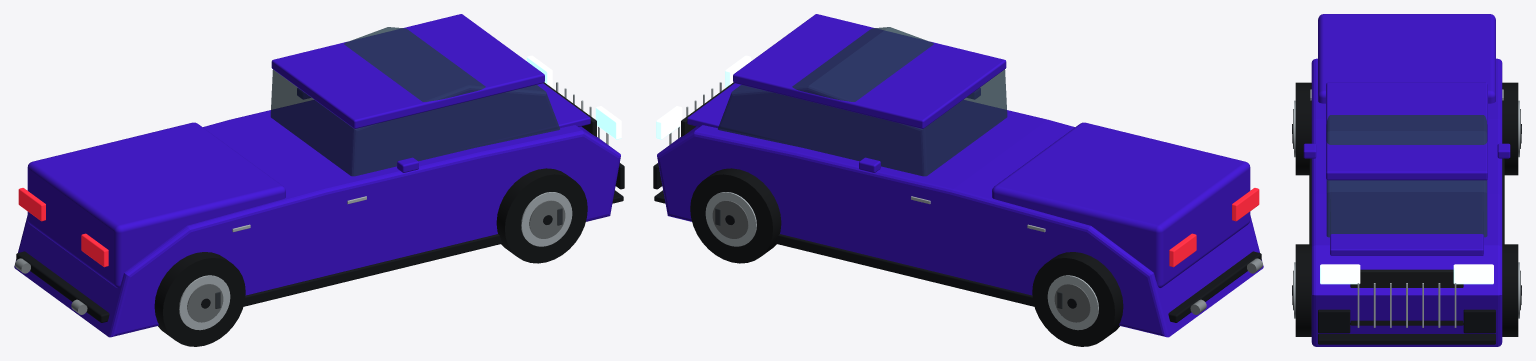
The model's file is chevy_silverado_3500hd.glb.
3 renders of one model, left to right at view 1: azimuth 30°, elevation 25°; view 2: azimuth 150°, elevation 25°; view 3: azimuth 270°, elevation 25°, orthographic. The views are drawn at different scales.
Parts seen in each view (by area): view 1: sculpted_body, pickup_bed, cab, cab_roof, hood_center, rear_right_wheel_tire, front_right_wheel_tire, side_skirt_1, rear_diffuser, rear_right_wheel_rim, front_right_wheel_rim, rear_right_wheel_disc (+4 smaller); view 2: sculpted_body, pickup_bed, cab, cab_roof, hood_center, rear_left_wheel_tire, front_left_wheel_tire, side_skirt_-1, rear_diffuser, rear_left_wheel_rim, front_left_wheel_rim, rear_left_wheel_disc (+4 smaller); view 3: cab_roof, sculpted_body, cab, pickup_bed, hood_center, front_grille, front_splitter, front_left_wheel_tire, front_right_wheel_tire, rear_left_wheel_tire, rear_right_wheel_tire, headlight_left (+7 smaller).
Boxes of the visible parts, left/top/right/bottom form: sculpted_body: left=14, top=100, right=620, bottom=337; pickup_bed: left=27, top=122, right=285, bottom=287; cab: left=270, top=27, right=559, bottom=176; cab_roof: left=271, top=14, right=544, bottom=128; hood_center: left=399, top=83, right=590, bottom=151; rear_right_wheel_tire: left=154, top=252, right=245, bottom=346; front_right_wheel_tire: left=496, top=168, right=587, bottom=263; side_skirt_1: left=243, top=234, right=502, bottom=306; rear_diffuser: left=16, top=251, right=109, bottom=322; rear_right_wheel_rim: left=179, top=275, right=230, bottom=330; front_right_wheel_rim: left=521, top=192, right=572, bottom=246; rear_right_wheel_disc: left=187, top=284, right=223, bottom=322; sculpted_body: left=657, top=100, right=1263, bottom=337; pickup_bed: left=992, top=122, right=1250, bottom=287; cab: left=718, top=27, right=1007, bottom=176; cab_roof: left=733, top=14, right=1006, bottom=128; hood_center: left=687, top=83, right=878, bottom=151; rear_left_wheel_tire: left=1032, top=252, right=1123, bottom=346; front_left_wheel_tire: left=690, top=168, right=781, bottom=263; side_skirt_-1: left=775, top=234, right=1034, bottom=306; rear_diffuser: left=1168, top=251, right=1261, bottom=322; rear_left_wheel_rim: left=1047, top=275, right=1098, bottom=330; front_left_wheel_rim: left=705, top=192, right=756, bottom=246; rear_left_wheel_disc: left=1054, top=284, right=1090, bottom=322; cab_roof: left=1326, top=82, right=1487, bottom=180; sculpted_body: left=1311, top=58, right=1502, bottom=346; cab: left=1326, top=115, right=1487, bottom=237; pickup_bed: left=1318, top=14, right=1495, bottom=103; hood_center: left=1330, top=181, right=1483, bottom=255; front_grille: left=1350, top=269, right=1463, bottom=325; front_splitter: left=1318, top=334, right=1495, bottom=344; front_left_wheel_tire: left=1502, top=244, right=1518, bottom=336; front_right_wheel_tire: left=1295, top=244, right=1311, bottom=336; rear_left_wheel_tire: left=1502, top=82, right=1518, bottom=175; rear_right_wheel_tire: left=1295, top=82, right=1311, bottom=175; headlight_left: left=1453, top=264, right=1493, bottom=284.
Size of the model in its own units: 6.08 by 1.94 by 2.33.
